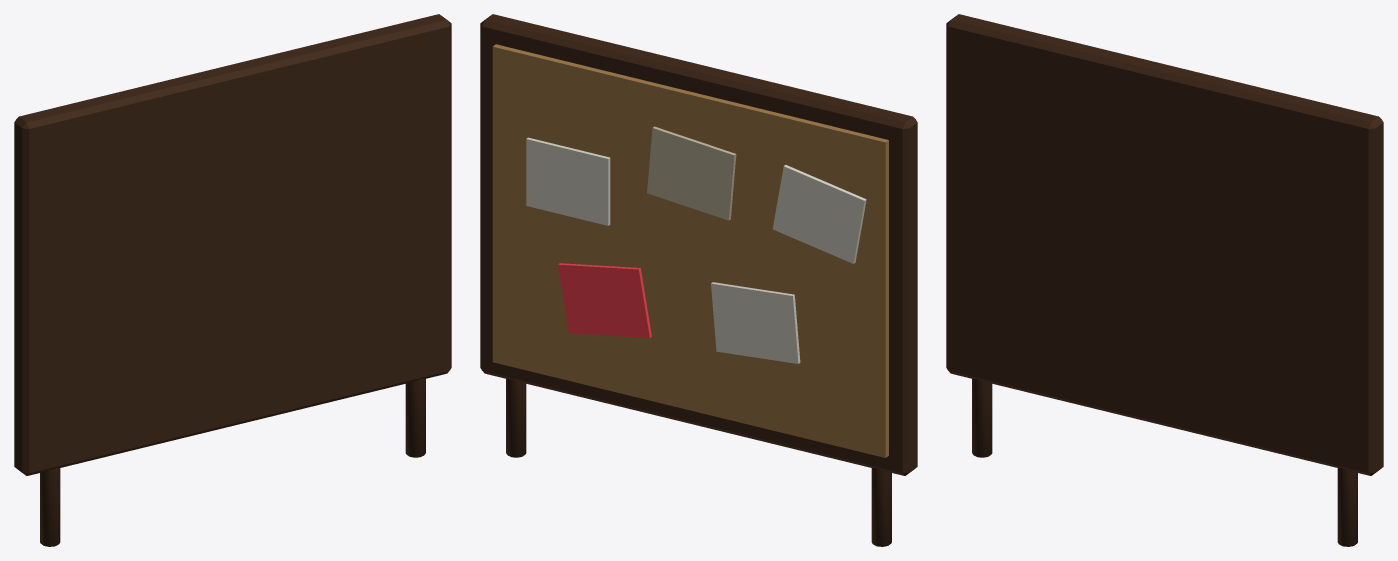
File: anomaly_archive_board.obj
3 renders of one model, left to right at view 1: azimuth 30°, elevation 25°; view 2: azimuth 150°, elevation 25°; view 3: azimuth 330°, elevation 25°, orthographic.
Parts seen in each view (by area): view 1: Frame, Leg_-0.3, Leg_1.3; view 2: Cork, Frame, Note_2, Note_0, Note_1, Note_3, Note_4, Leg_-0.3, Leg_1.3; view 3: Frame, Leg_-0.3, Leg_1.3.
Part boxes in pixels (bbox=[...]): Frame: bbox=[14, 14, 451, 475]; Leg_-0.3: bbox=[40, 468, 60, 546]; Leg_1.3: bbox=[405, 378, 425, 457]; Cork: bbox=[492, 44, 888, 457]; Frame: bbox=[480, 14, 917, 475]; Note_2: bbox=[526, 137, 610, 225]; Note_0: bbox=[772, 165, 866, 263]; Note_1: bbox=[647, 126, 736, 220]; Note_3: bbox=[711, 282, 800, 363]; Note_4: bbox=[558, 263, 651, 337]; Leg_-0.3: bbox=[871, 468, 891, 546]; Leg_1.3: bbox=[506, 378, 526, 457]; Frame: bbox=[946, 14, 1383, 475]; Leg_-0.3: bbox=[972, 378, 992, 457]; Leg_1.3: bbox=[1337, 468, 1357, 546].
Size of the model in its own units: 1.88 by 1.8 by 0.1475.
